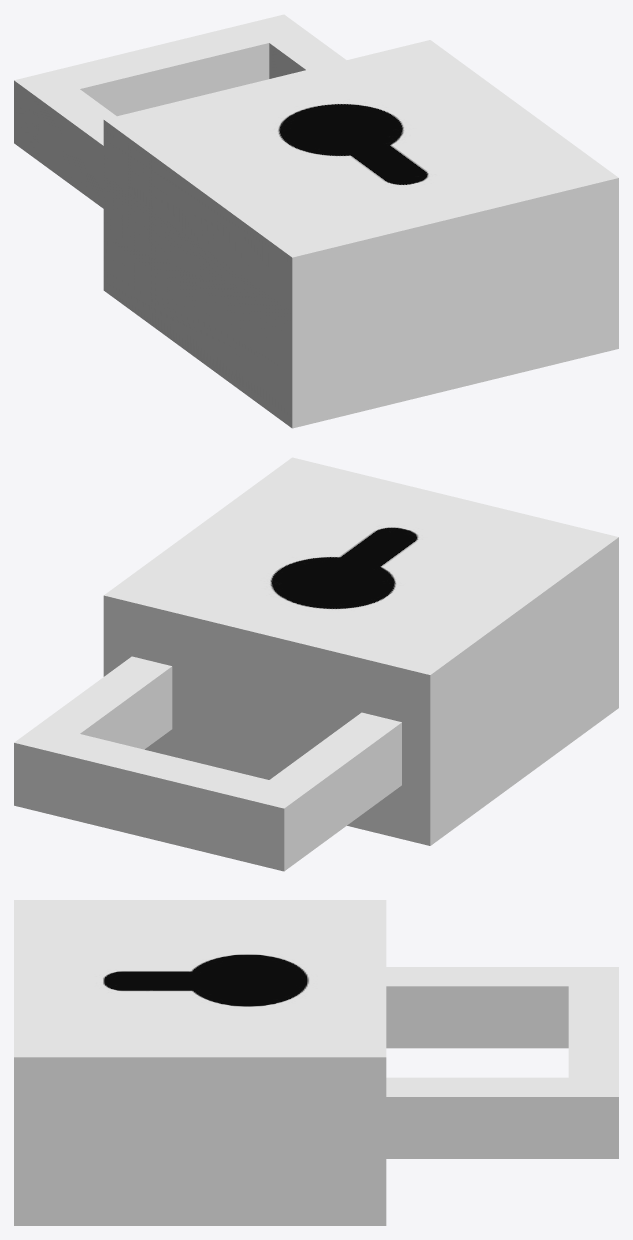
The model's file is lock.fbx.
3 views of the same model, one above another, from view 1: azimuth 30°, elevation 25°; view 2: azimuth 150°, elevation 25°; view 3: azimuth 270°, elevation 25° (orthographic).
Parts seen in each view (by area): view 1: Cube_001; view 2: Cube_001; view 3: Cube_001.
Part boxes in pixels (x1=…): Cube_001: x1=14, y1=14, x2=618, y2=428; Cube_001: x1=14, y1=457, x2=618, y2=871; Cube_001: x1=14, y1=900, x2=618, y2=1225.
Size of the model in its own units: 4 by 2 by 6.5.
Materials: 1 (1 with a texture image).
